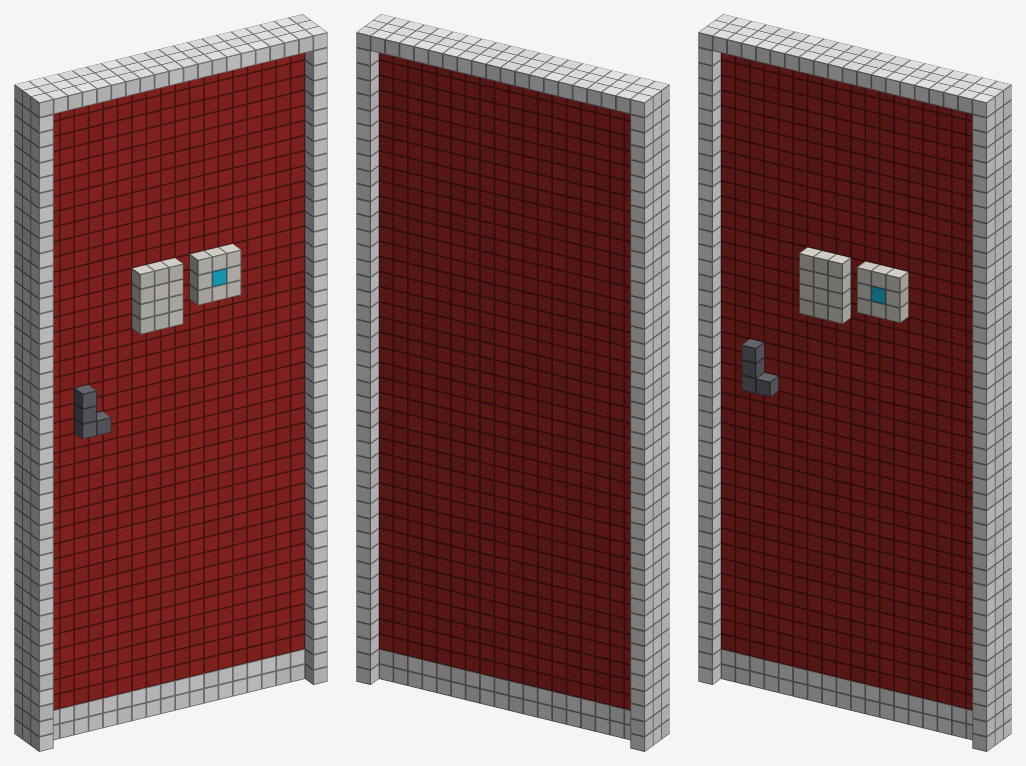
The model's file is red_door.glb.
The picture shows the model from 3 angles, left to right: view 1: azimuth 30°, elevation 25°; view 2: azimuth 150°, elevation 25°; view 3: azimuth 330°, elevation 25°; orthographic projection.
Parts seen in each view (by area): view 1: red_door; view 2: red_door; view 3: red_door.
Part boxes in pixels (box(x1,y1,x2,y2)): red_door: box(14, 14, 327, 751); red_door: box(356, 14, 669, 751); red_door: box(698, 14, 1011, 751).
Size of the model in its own units: 1 by 2.15 by 0.15.
6 materials, 6 textured.
